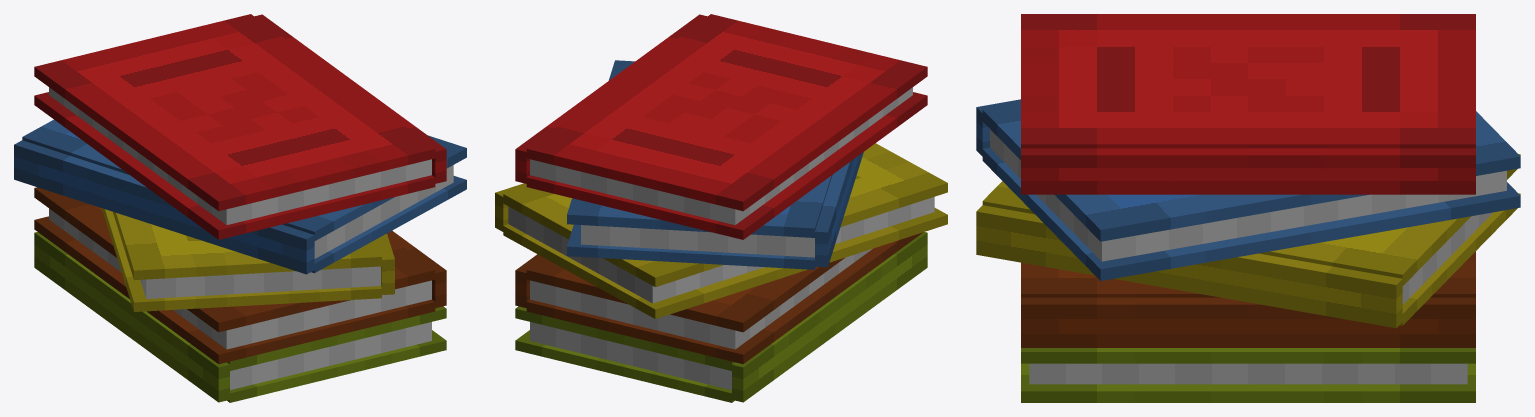
Rendered from books.glb.
3 renders of one model, left to right at view 1: azimuth 30°, elevation 25°; view 2: azimuth 150°, elevation 25°; view 3: azimuth 270°, elevation 25°, orthographic. The views are drawn at different scales.
Visible parts, largest first — view 1: a97b5972-1885-5dfc-1cd4-23fef182796c_3, aad3fd4e-fad0-5f00-a43b-05c0d2db1c12_4, c6a802c8-fc27-4c70-d7da-d765d4f95609_12, 98393dd3-45bb-6625-7c41-31f83be280f9_1, a7977a6c-cfcc-69fb-a5aa-bcc6b2773263_11, 121edf21-6fa9-25fc-c6bd-96b1828d26e6_19, 13b3a0e8-063e-8dde-11ce-2f9e087bc196_18, d42e0b9d-06c6-1f54-2575-b4977d464260_17, c062d236-9276-9fc5-5c4b-7f556caee893_2, 9303851b-aaac-106d-0ee0-b31c8177bbda_10, 60aa928b-8cf8-e269-2b2d-ef328b42e818_9, 5b12029c-da89-2c89-cbd8-f8571af06cd5_15 (+8 smaller); view 2: a97b5972-1885-5dfc-1cd4-23fef182796c_3, a7977a6c-cfcc-69fb-a5aa-bcc6b2773263_11, c6a802c8-fc27-4c70-d7da-d765d4f95609_12, 98393dd3-45bb-6625-7c41-31f83be280f9_1, 60aa928b-8cf8-e269-2b2d-ef328b42e818_9, 121edf21-6fa9-25fc-c6bd-96b1828d26e6_19, 9303851b-aaac-106d-0ee0-b31c8177bbda_10, d42e0b9d-06c6-1f54-2575-b4977d464260_17, 13b3a0e8-063e-8dde-11ce-2f9e087bc196_18, c062d236-9276-9fc5-5c4b-7f556caee893_2, 0998e9b5-ea0e-b2e1-f5ab-27cb0c6867f7_6, ab05ee45-c5ef-e0cb-41d3-7a9f9baed5b3_7 (+8 smaller); view 3: a97b5972-1885-5dfc-1cd4-23fef182796c_3, 01b6ab78-22b9-0d7b-1933-5f1de455909f_0, f123fd4e-85ce-8e2b-407d-d309e4c0e66a_16, b53aafe1-0edb-cdca-2f83-a37c1f2aae0b_8, ab05ee45-c5ef-e0cb-41d3-7a9f9baed5b3_7, 63222293-9a0a-47c7-262a-eec22627751e_5, 5b12029c-da89-2c89-cbd8-f8571af06cd5_15, 0998e9b5-ea0e-b2e1-f5ab-27cb0c6867f7_6, 63e5bf49-cf2e-3ee5-dfdc-a9b152449532_14, 55fe01e9-6ae7-f583-75c4-5840f4fc2684_13, a7977a6c-cfcc-69fb-a5aa-bcc6b2773263_11, 13b3a0e8-063e-8dde-11ce-2f9e087bc196_18 (+3 smaller).
Part boxes in pixels (<box>): a97b5972-1885-5dfc-1cd4-23fef182796c_3: <box>34,14,435,211</box>; aad3fd4e-fad0-5f00-a43b-05c0d2db1c12_4: <box>14,140,314,274</box>; c6a802c8-fc27-4c70-d7da-d765d4f95609_12: <box>34,232,229,402</box>; 98393dd3-45bb-6625-7c41-31f83be280f9_1: <box>34,92,435,239</box>; a7977a6c-cfcc-69fb-a5aa-bcc6b2773263_11: <box>113,212,381,280</box>; 121edf21-6fa9-25fc-c6bd-96b1828d26e6_19: <box>34,216,435,364</box>; 13b3a0e8-063e-8dde-11ce-2f9e087bc196_18: <box>34,187,435,332</box>; d42e0b9d-06c6-1f54-2575-b4977d464260_17: <box>49,208,431,349</box>; c062d236-9276-9fc5-5c4b-7f556caee893_2: <box>49,87,431,224</box>; 9303851b-aaac-106d-0ee0-b31c8177bbda_10: <box>140,266,380,298</box>; 60aa928b-8cf8-e269-2b2d-ef328b42e818_9: <box>101,208,381,311</box>; 5b12029c-da89-2c89-cbd8-f8571af06cd5_15: <box>230,322,431,389</box>; a97b5972-1885-5dfc-1cd4-23fef182796c_3: <box>526,14,927,211</box>; a7977a6c-cfcc-69fb-a5aa-bcc6b2773263_11: <box>503,143,947,286</box>; c6a802c8-fc27-4c70-d7da-d765d4f95609_12: <box>732,232,927,402</box>; 98393dd3-45bb-6625-7c41-31f83be280f9_1: <box>526,92,927,239</box>; 60aa928b-8cf8-e269-2b2d-ef328b42e818_9: <box>503,208,947,318</box>; 121edf21-6fa9-25fc-c6bd-96b1828d26e6_19: <box>526,232,923,364</box>; 9303851b-aaac-106d-0ee0-b31c8177bbda_10: <box>508,197,934,303</box>; d42e0b9d-06c6-1f54-2575-b4977d464260_17: <box>530,248,872,349</box>; 13b3a0e8-063e-8dde-11ce-2f9e087bc196_18: <box>526,257,844,332</box>; c062d236-9276-9fc5-5c4b-7f556caee893_2: <box>530,87,912,224</box>; 0998e9b5-ea0e-b2e1-f5ab-27cb0c6867f7_6: <box>581,225,814,257</box>; ab05ee45-c5ef-e0cb-41d3-7a9f9baed5b3_7: <box>567,60,832,237</box>; a97b5972-1885-5dfc-1cd4-23fef182796c_3: <box>1021,14,1475,148</box>; 01b6ab78-22b9-0d7b-1933-5f1de455909f_0: <box>1021,148,1475,194</box>; f123fd4e-85ce-8e2b-407d-d309e4c0e66a_16: <box>1021,297,1475,347</box>; b53aafe1-0edb-cdca-2f83-a37c1f2aae0b_8: <box>976,205,1402,328</box>; ab05ee45-c5ef-e0cb-41d3-7a9f9baed5b3_7: <box>982,103,1520,241</box>; 63222293-9a0a-47c7-262a-eec22627751e_5: <box>982,147,1520,280</box>; 5b12029c-da89-2c89-cbd8-f8571af06cd5_15: <box>1029,363,1467,384</box>; 0998e9b5-ea0e-b2e1-f5ab-27cb0c6867f7_6: <box>990,129,1506,261</box>; 63e5bf49-cf2e-3ee5-dfdc-a9b152449532_14: <box>1021,363,1475,402</box>; 55fe01e9-6ae7-f583-75c4-5840f4fc2684_13: <box>1021,348,1475,363</box>; a7977a6c-cfcc-69fb-a5aa-bcc6b2773263_11: <box>982,154,1520,285</box>; 13b3a0e8-063e-8dde-11ce-2f9e087bc196_18: <box>1021,251,1475,297</box>.
Bounding box in the file's own units: 2.37 × 1.39 × 2.72.
1 material, 1 textured.
